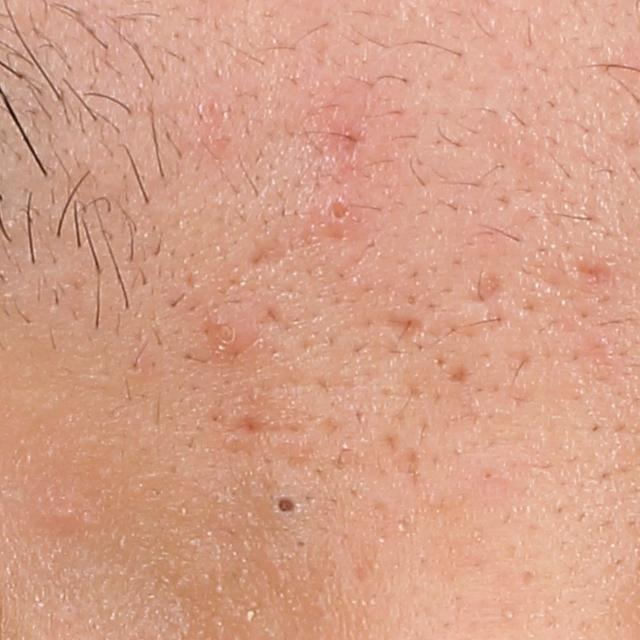atrophic_scar: (561, 258, 622, 293), (254, 234, 297, 271), (382, 315, 423, 348), (449, 362, 468, 385)
comedo: (325, 193, 352, 221)
